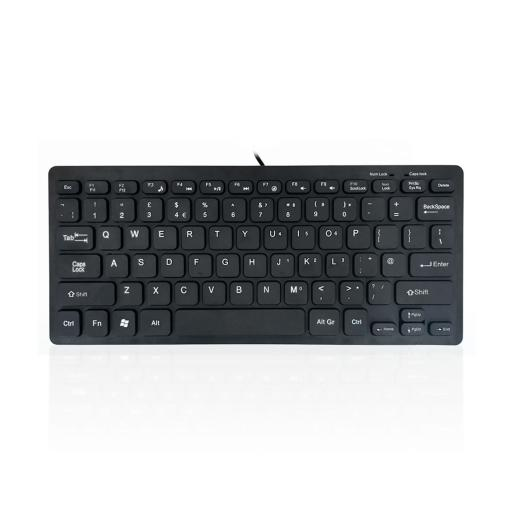keyboard: (44, 163, 466, 351)
